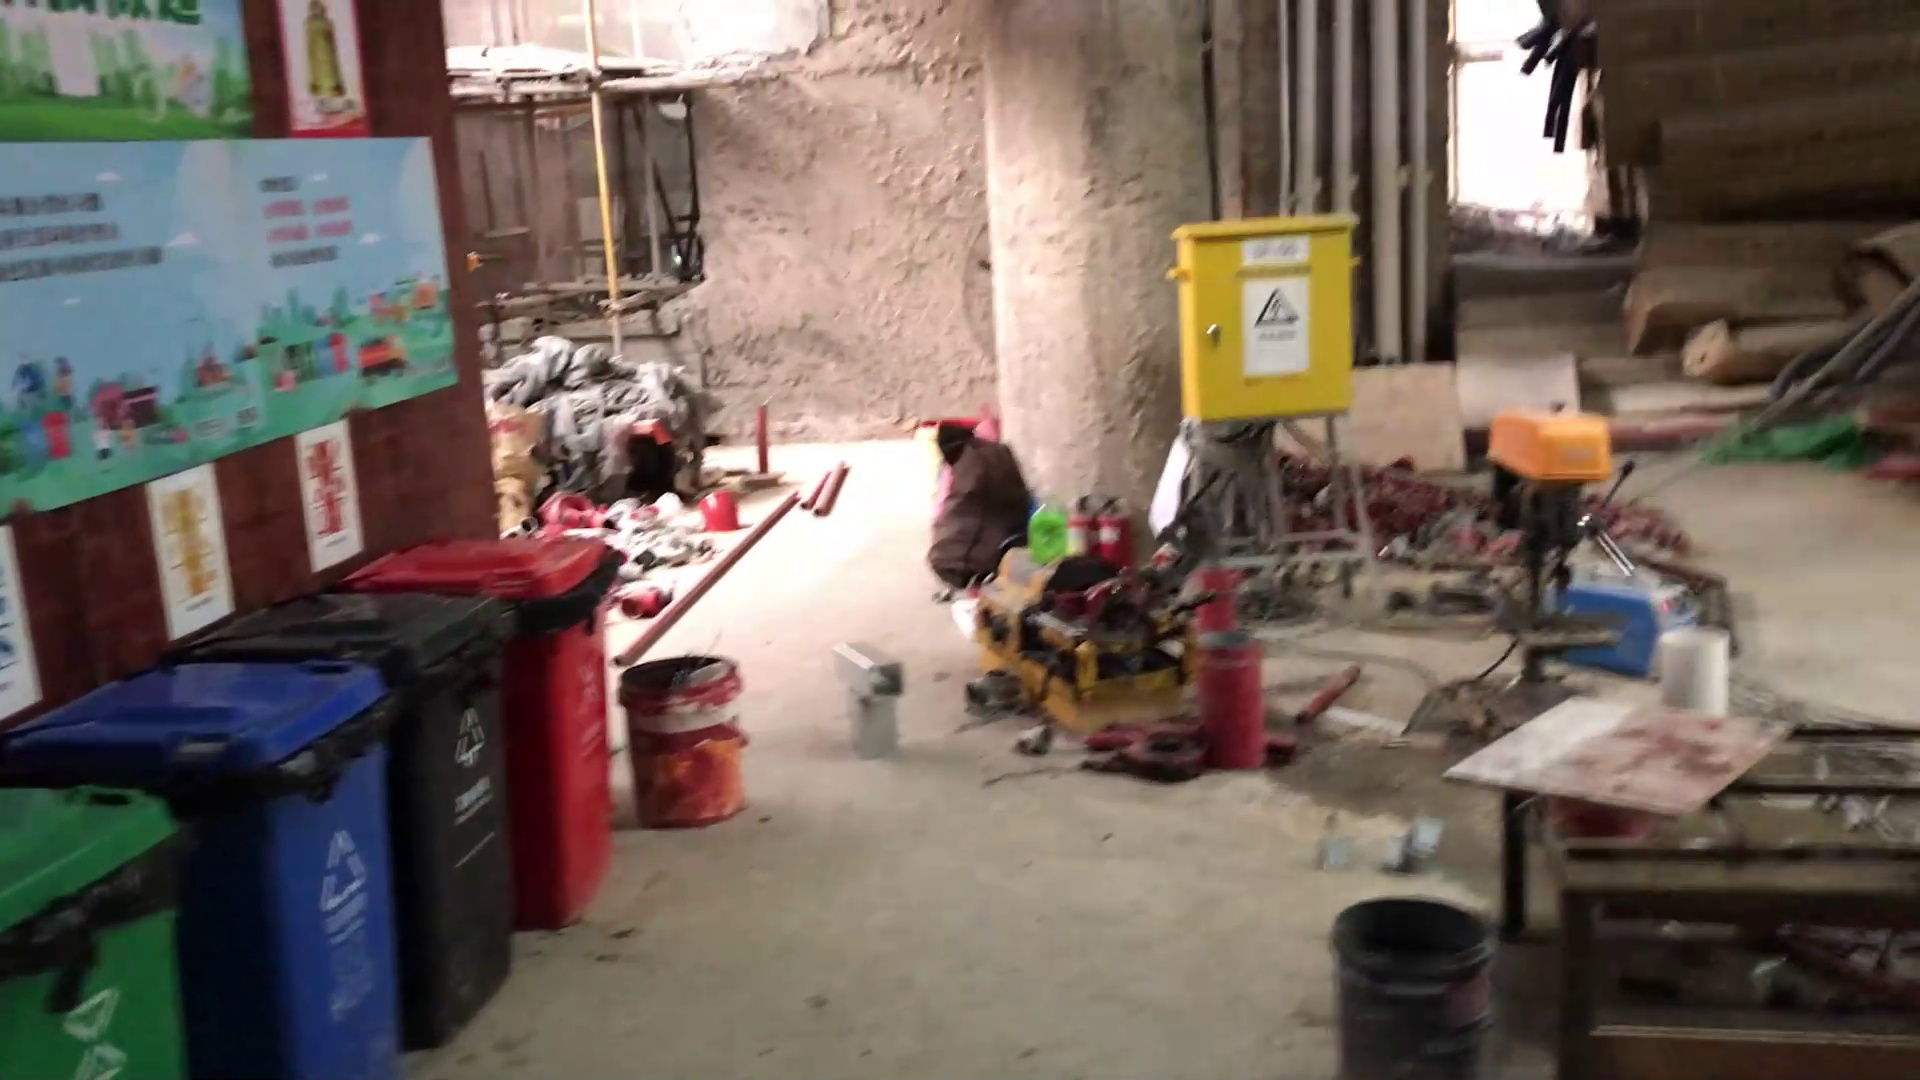ebox: (1163, 204, 1378, 469)
